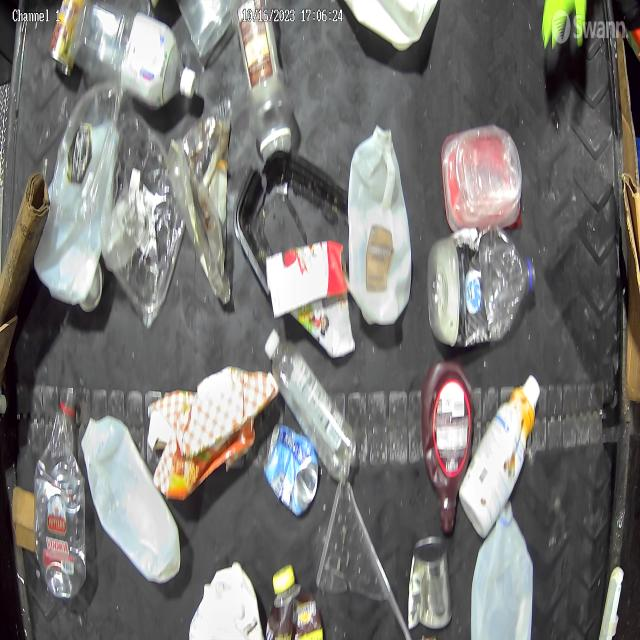can: (262, 419, 317, 508), (408, 530, 450, 620)
milk_jug: (80, 413, 184, 587), (349, 120, 410, 319), (469, 506, 531, 640)
non_white_jug: (424, 360, 473, 520)
plastic_bottle: (264, 320, 358, 489), (31, 391, 87, 597)
